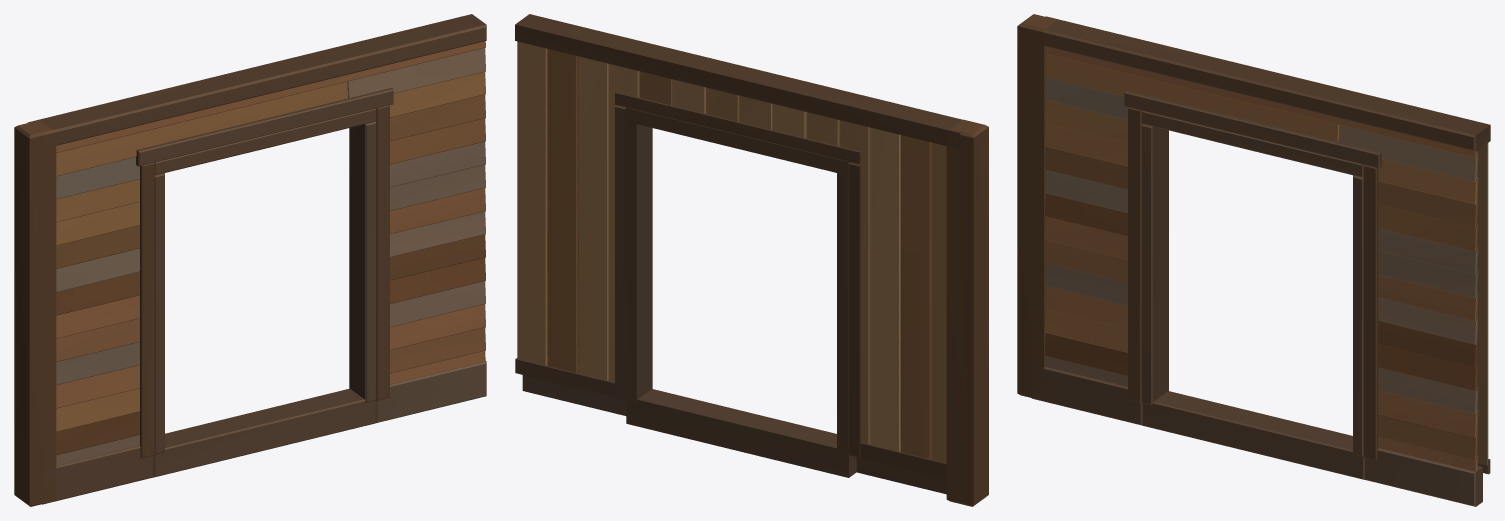
The model's file is wood_wall_door_01.glb.
3 renders of one model, left to right at view 1: azimuth 30°, elevation 25°; view 2: azimuth 150°, elevation 25°; view 3: azimuth 330°, elevation 25°, orthographic.
Visible parts, largest first — view 1: wood_wall_door_01_body, corner_post; view 2: wood_wall_door_01_body, corner_post; view 3: wood_wall_door_01_body, corner_post.
Part boxes in pixels (x1,y1,x2,y2): wood_wall_door_01_body: (27,14,486,504); corner_post: (14,120,56,506); wood_wall_door_01_body: (515,14,962,494); corner_post: (946,119,988,506); wood_wall_door_01_body: (1031,16,1490,506); corner_post: (1017,14,1056,399).
Bounding box in the file's own units: 4.12 × 3.2 × 0.2725.
